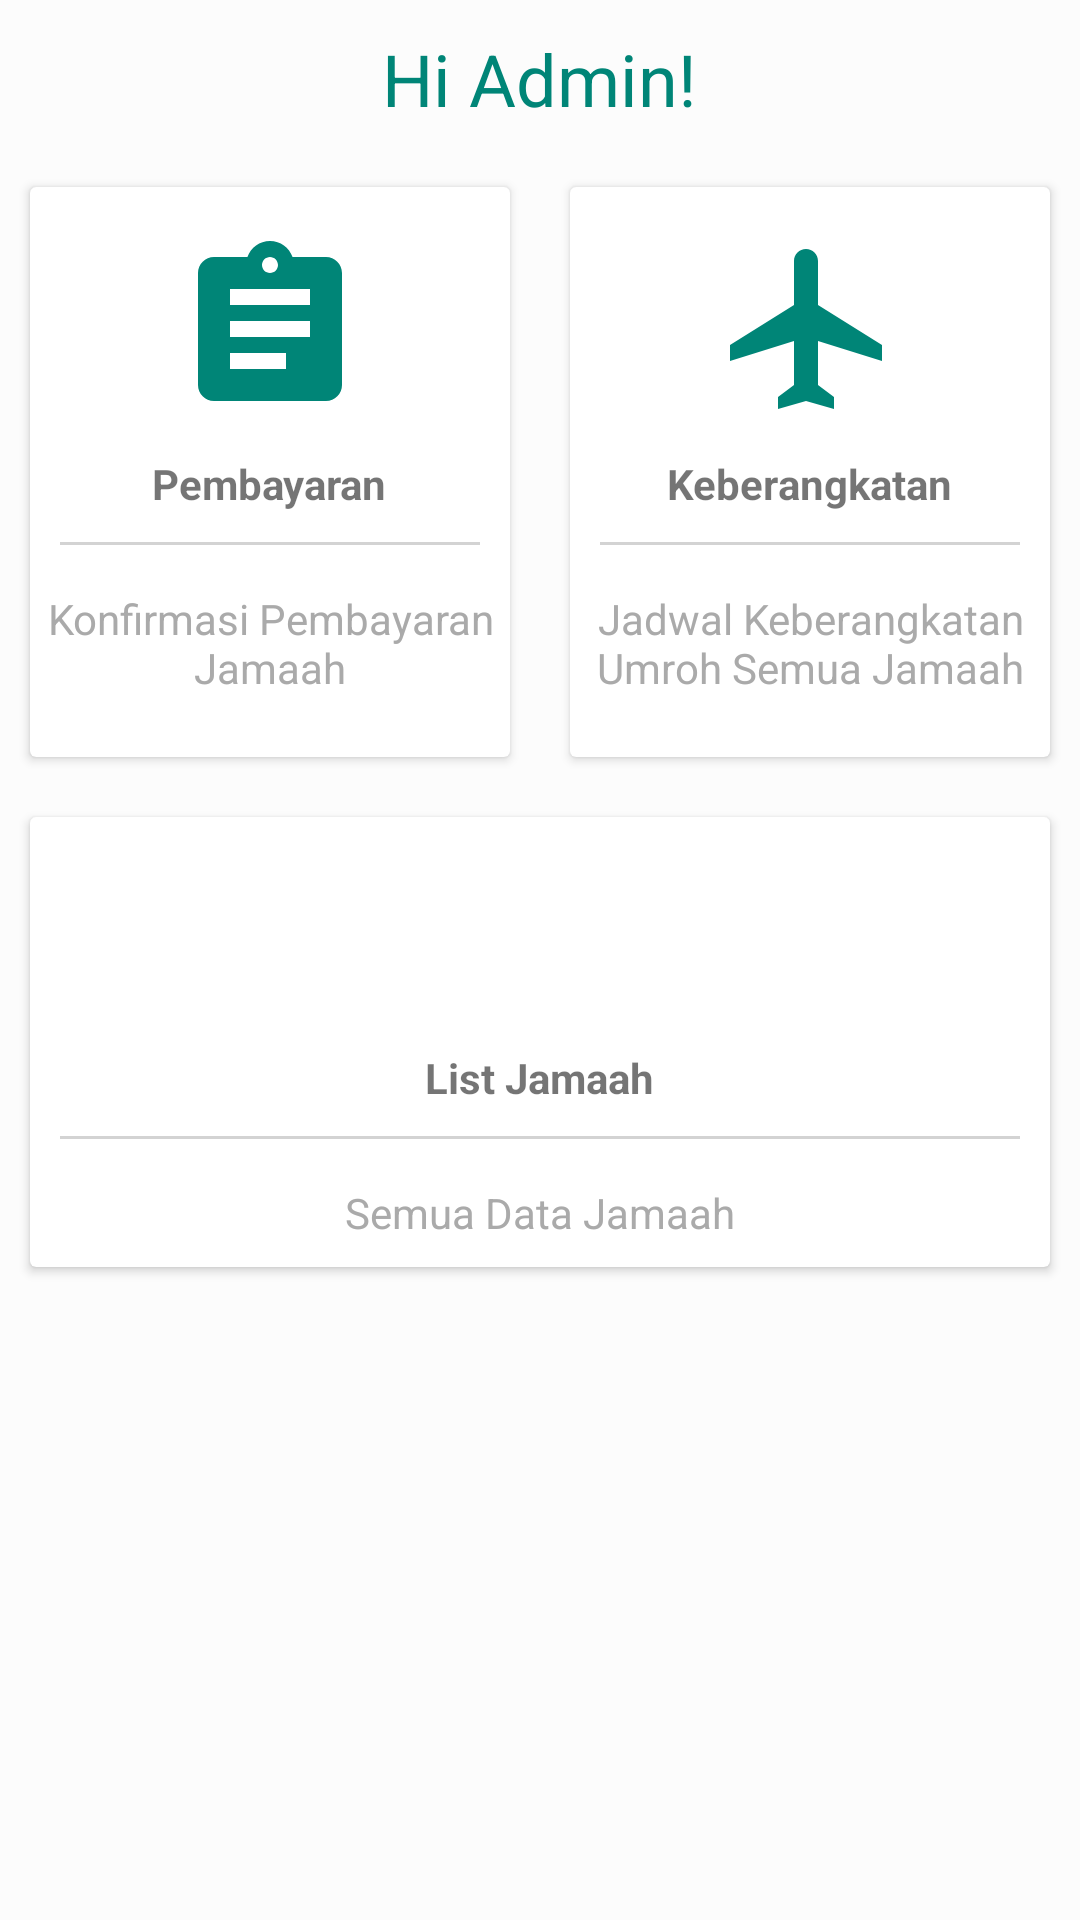

Icon click points for this 1080×1920 phone screenshot, format [x,y]:
assignment: [270,321]
flight: [806,329]
